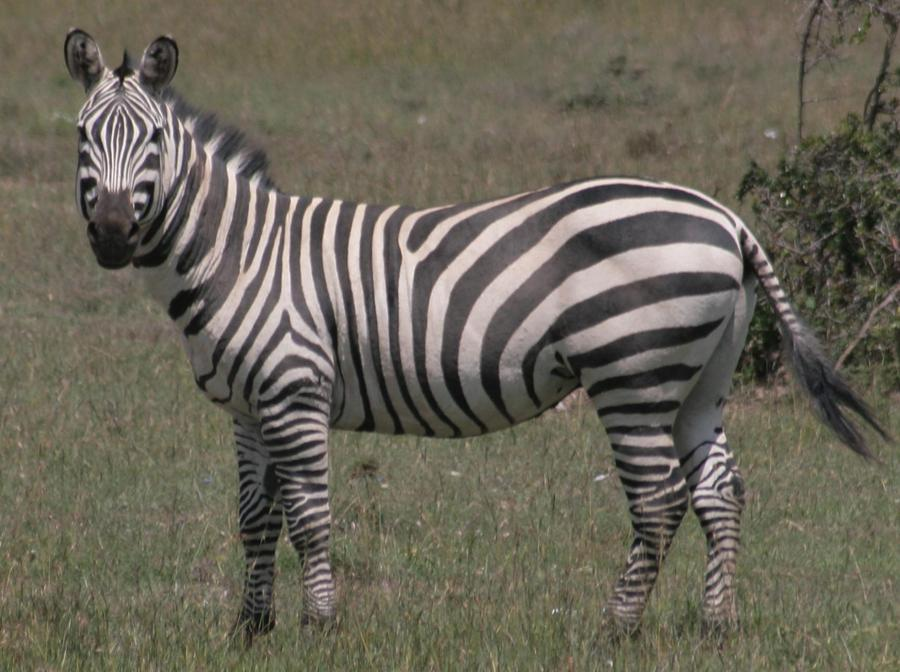zebra_plains: (168, 153, 739, 445)
